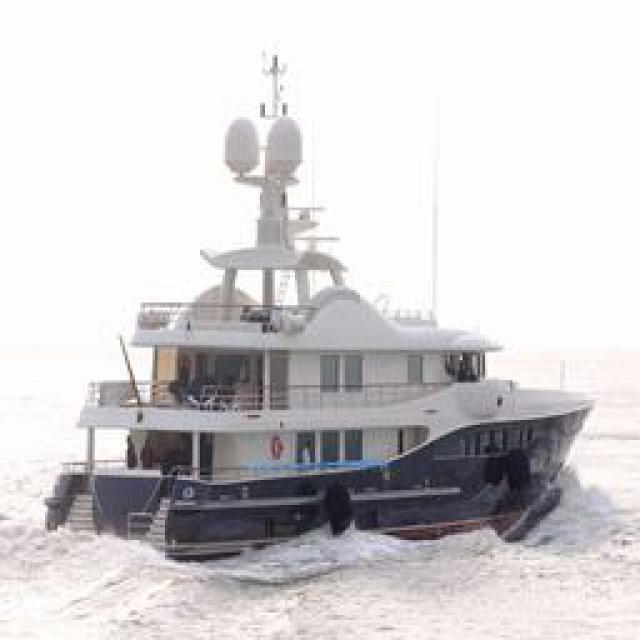Ship: (44, 216, 594, 559)
